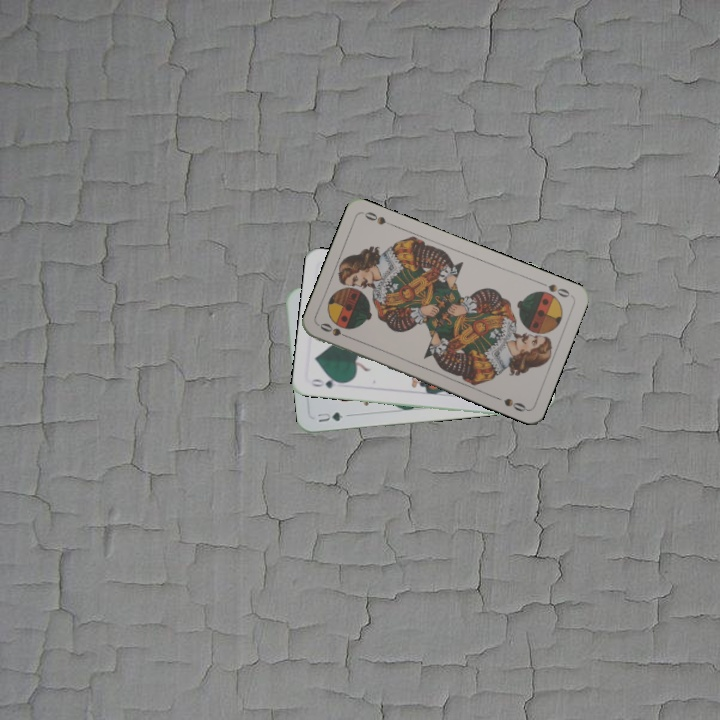GO: (307, 374, 347, 391)
GU: (313, 408, 345, 425)
SO: (315, 319, 354, 342), (535, 278, 572, 300)
